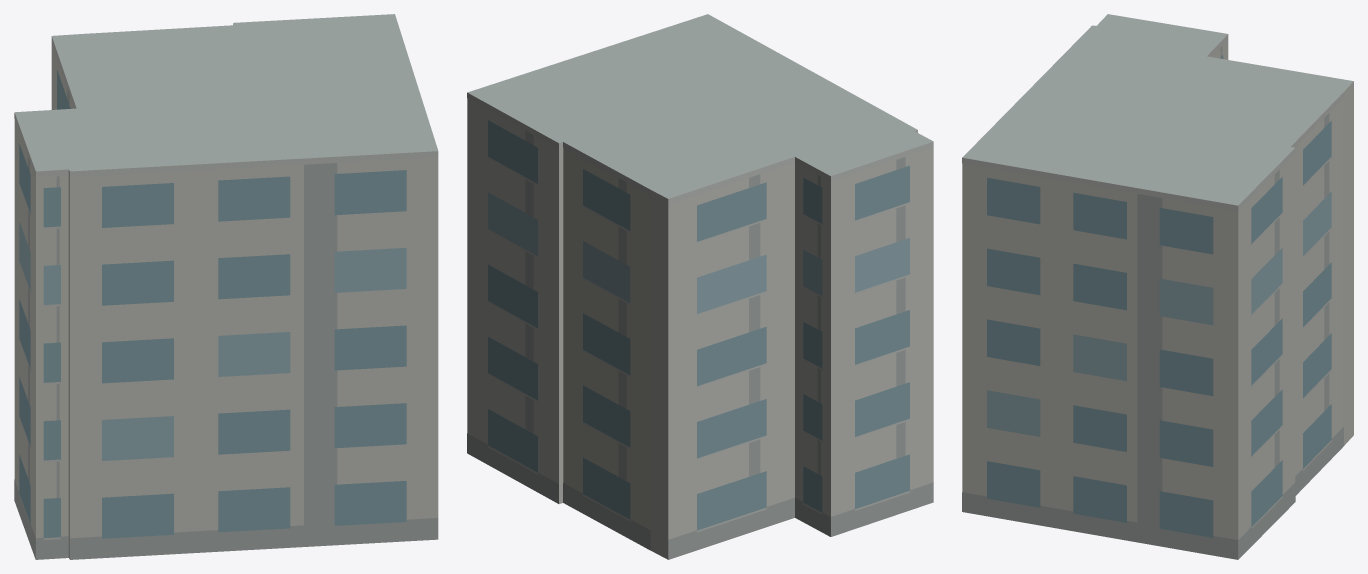
Rendered from survey-upis-32630069.glb.
3 views of the same model, side by side, from view 1: azimuth 30°, elevation 25°; view 2: azimuth 150°, elevation 25°; view 3: azimuth 270°, elevation 25° (orthographic). The views are drawn at different scales.
Visible parts, largest first — view 1: survey-upis-32630069.tmp; view 2: survey-upis-32630069.tmp; view 3: survey-upis-32630069.tmp.
Boxes of the visible parts, x1,y1,x2,y2 form: survey-upis-32630069.tmp: [14, 14, 438, 559]; survey-upis-32630069.tmp: [467, 14, 933, 559]; survey-upis-32630069.tmp: [962, 14, 1353, 559].
Size of the model in its own units: 17.7 by 15.25 by 15.29.
